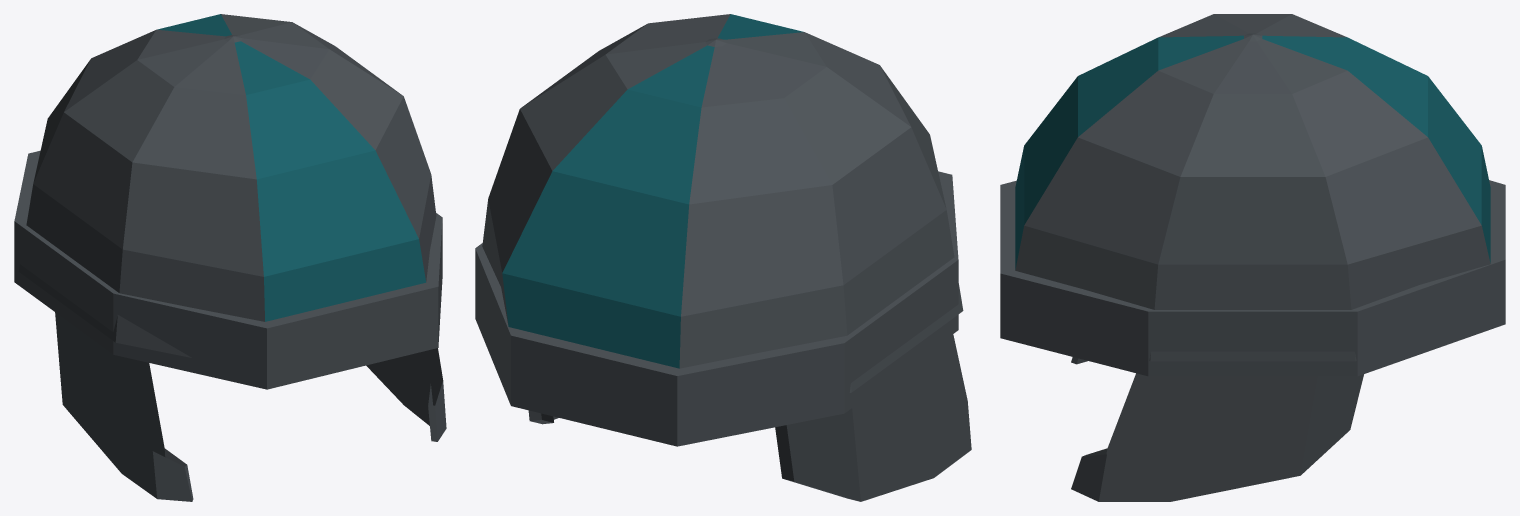
File: helmet_1_3.glb
The picture shows the model from 3 angles, left to right: view 1: azimuth 30°, elevation 25°; view 2: azimuth 150°, elevation 25°; view 3: azimuth 270°, elevation 25°; orthographic projection. The views are drawn at different scales.
Visible parts, largest first — view 1: Sphere, Cylinder2.001, Cube; view 2: Sphere, Cylinder2.001, Cube; view 3: Sphere, Cylinder2.001, Cube.
Part boxes in pixels (x1,y1,x2,y2): Sphere: (18,14,436,357); Cylinder2.001: (14,150,442,389); Cube: (55,312,446,501); Sphere: (482,14,963,392); Cylinder2.001: (475,171,958,446); Cube: (528,334,971,501); Sphere: (1015,14,1490,361); Cylinder2.001: (1000,180,1505,376); Cube: (1071,357,1363,501).
Size of the model in its own units: 0.2214 by 0.2417 by 0.2804.
